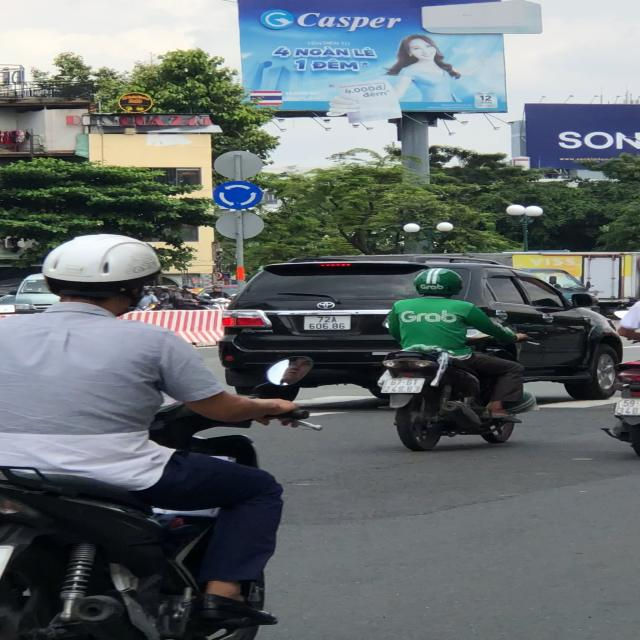Bien bao noi giao nhau chay theo vong xuyen: (210, 178, 272, 211)
